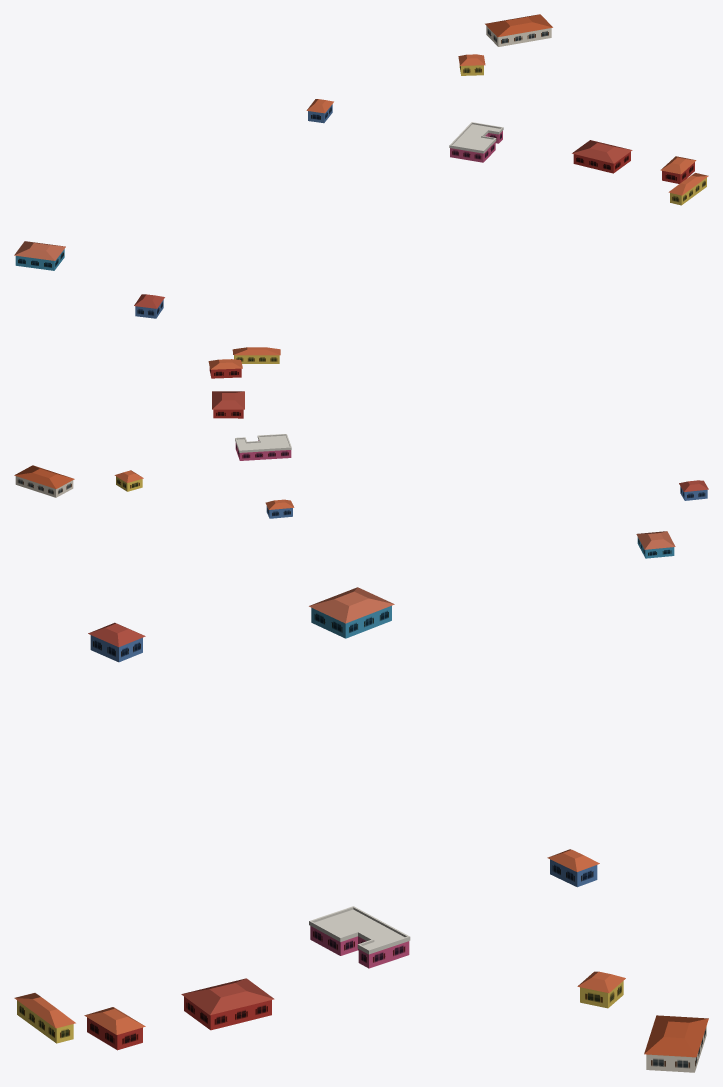
File: msb_oranjestad_m11_6.glb
3 views of the same model, one above another, from view 1: azimuth 30°, elevation 25°; view 2: azimuth 150°, elevation 25°; view 3: azimuth 270°, elevation 25° (orthographic). The views are drawn at different scales.
Parts seen in each view (by area): view 1: msb_oranjestad_m11_6_lod0; view 2: msb_oranjestad_m11_6_lod0; view 3: msb_oranjestad_m11_6_lod0.
Part boxes in pixels (x1,y1,x2,y2): msb_oranjestad_m11_6_lod0: [14, 14, 708, 318]; msb_oranjestad_m11_6_lod0: [14, 347, 708, 558]; msb_oranjestad_m11_6_lod0: [14, 587, 708, 1072].
Size of what is drawn, in the model's own units: 220 by 7.97 by 135.
3 materials, 1 textured.
